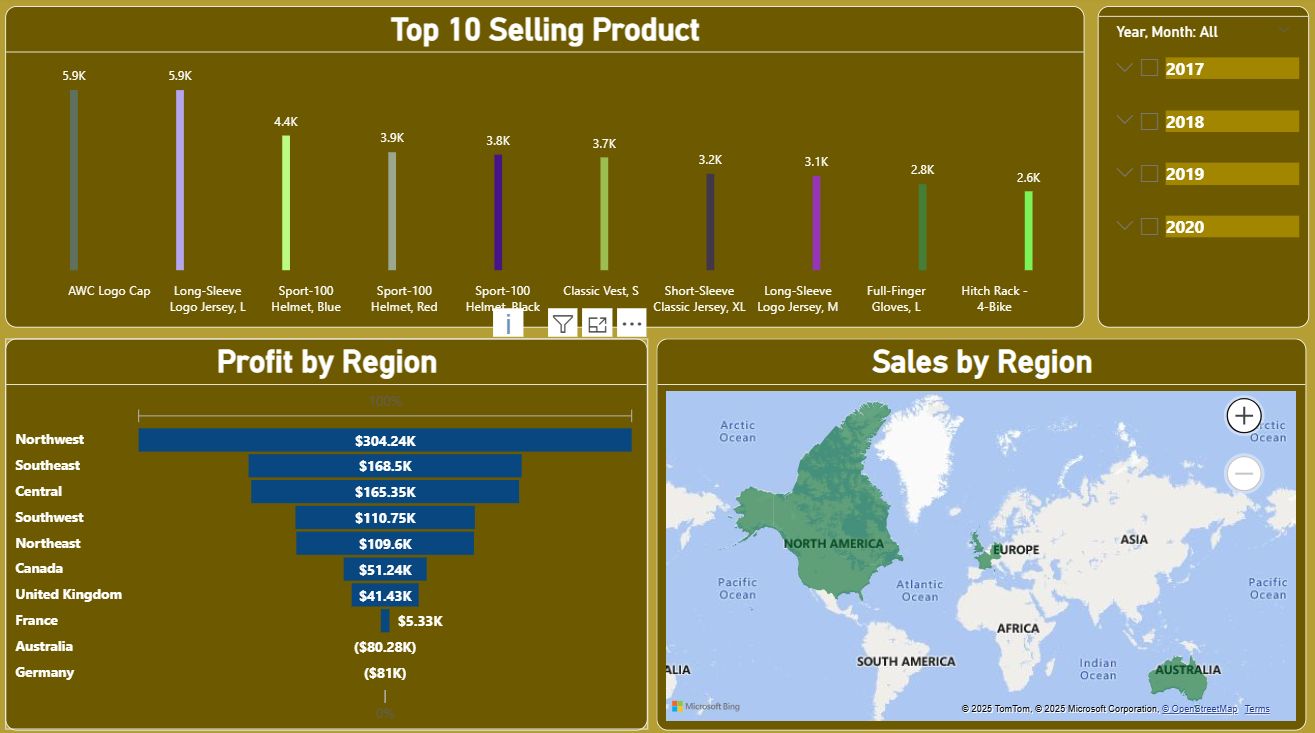

The page's visual inventory and layout, read from the dashboard file:
{"tool":"powerbi","page":{"name":"Page 3","canvas":[1280,720],"ordinal":2},"visuals":[{"type":"clusteredColumnChart","title":"Top 10 Selling Product","fields":{"Series":["Sales.Product"],"Y":["Sum(Sales.Quantity)"],"Category":["Sales.Product"]},"box":[11.2,10,1041.2,310],"z":0},{"type":"funnel","title":"Profit by Region","fields":{"Category":["Sales.Region"],"Y":["Sales.profit"]},"box":[11.2,330,620,378.8],"z":1000},{"type":"filledMap","title":"Sales by Region","fields":{"Category":["Sales.Country"]},"box":[640,330,627.5,378.8],"z":2000},{"type":"slicer","fields":{"Values":["Sales.Order Date.Variation.Date Hierarchy.Year","Sales.Order Date.Variation.Date Hierarchy.Month"]},"box":[1064.8,10,203.8,310.7],"z":3000}]}

Visuals, with their boxes in screenshot pixels (x1, y1, x2, y2), scaled from the page's 1280x720 canvas onto the 1315x733 screenshot:
"Top 10 Selling Product" clusteredColumnChart: x1=12 y1=10 x2=1081 y2=326
"Profit by Region" funnel: x1=12 y1=336 x2=648 y2=722
"Sales by Region" filledMap: x1=658 y1=336 x2=1302 y2=722
slicer - Sales.Order Date.Variation.Date Hierarchy.Year x Sales.Order Date.Variation.Date Hierarchy.Month: x1=1094 y1=10 x2=1303 y2=326
